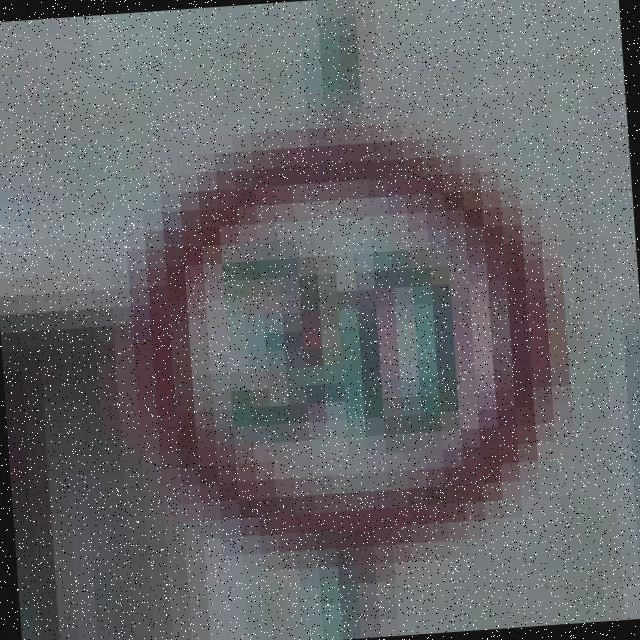Ograniczenie predkosci do 30: (139, 128, 560, 565)
